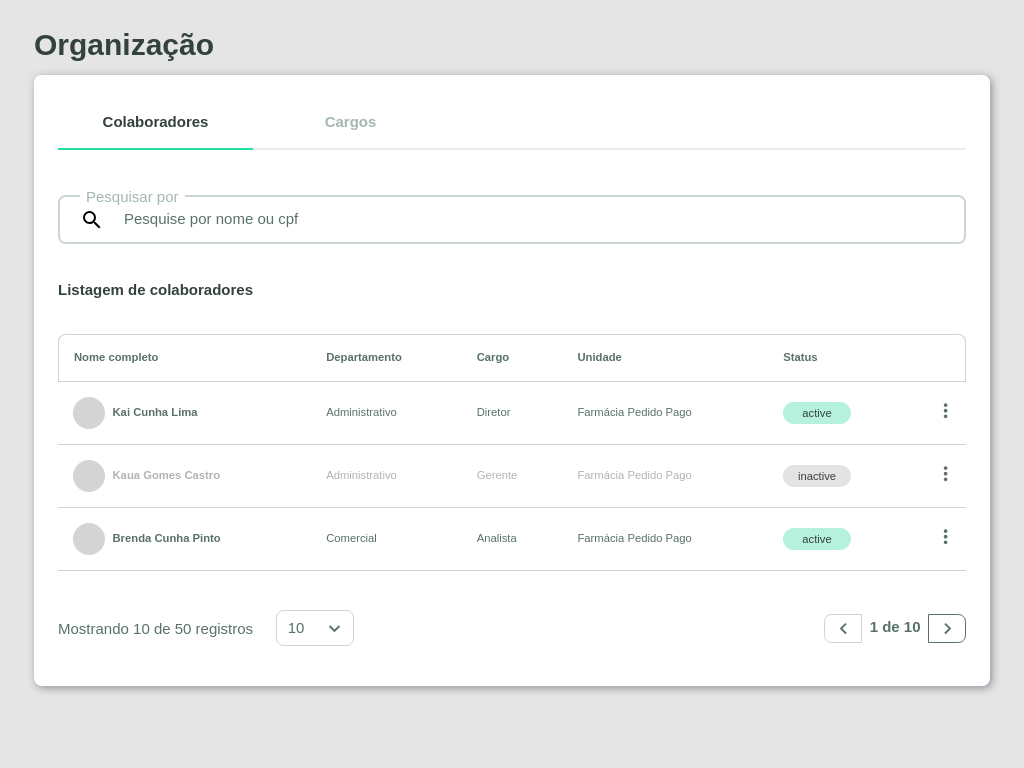
it: Home › tests the user's stream to open and close the popup
Click the icon with test id "popover-button" in the row of "Kai Cunha Lima" at (945, 410), box [934,399,957,422]
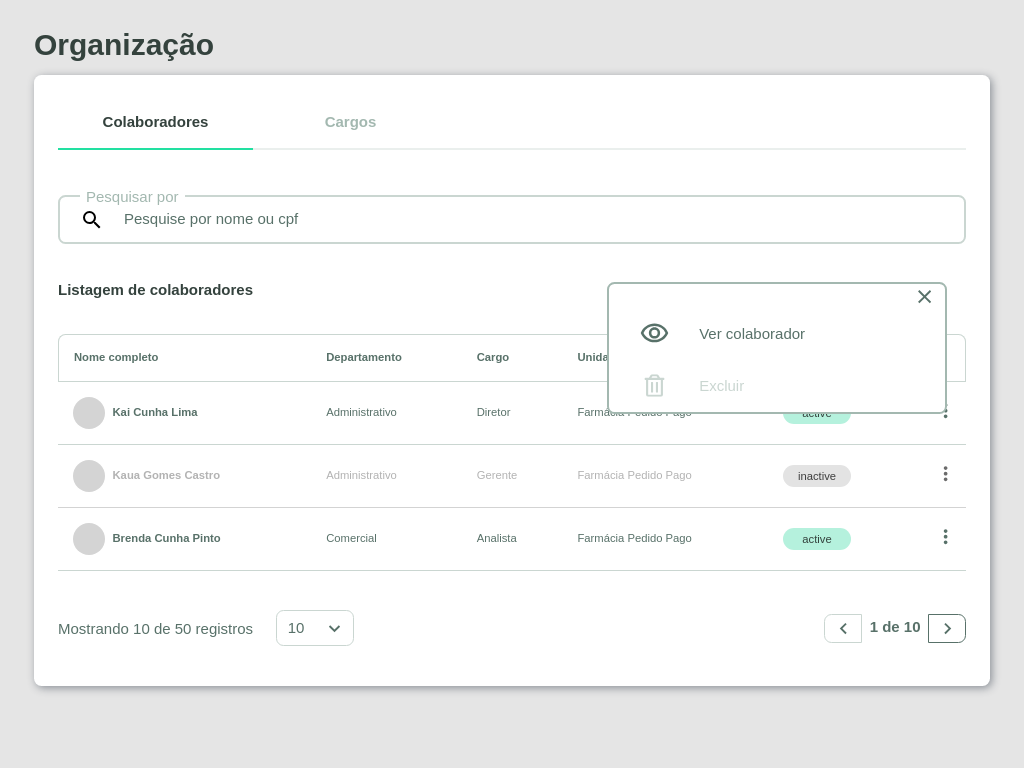
Expected: the element with test id "close-popup-button" is shown
Click the element with test id "close-popup-button" at (925, 297), box [913,286,936,308]
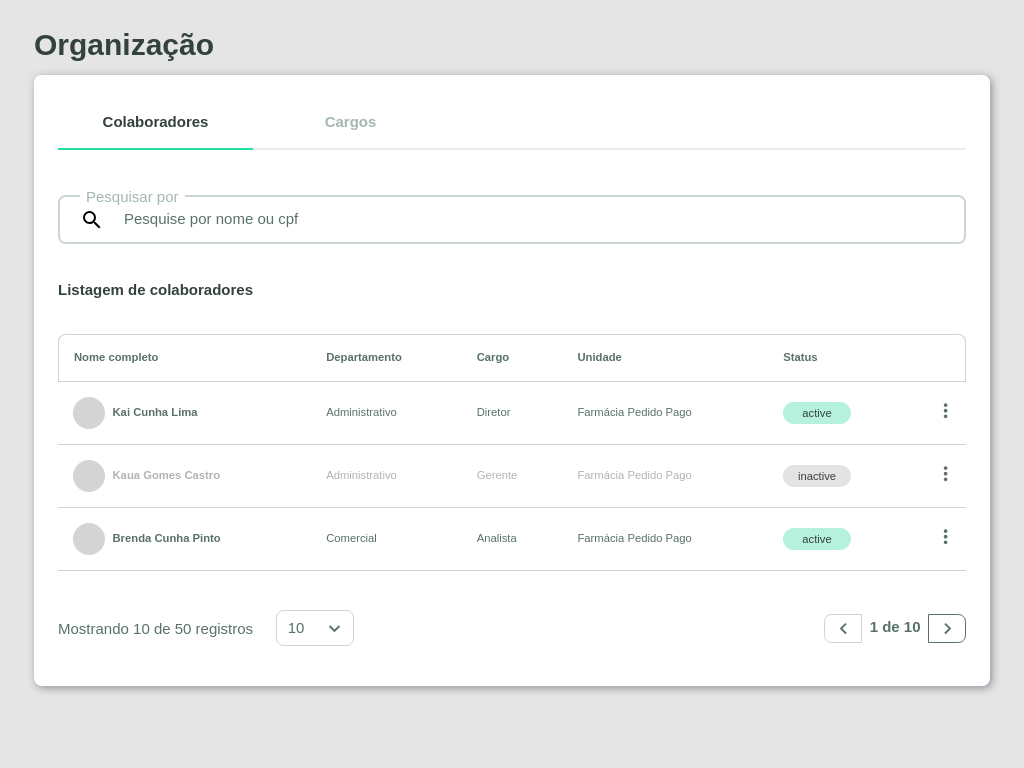
Expected: the element with test id "close-popup-button" is gone
